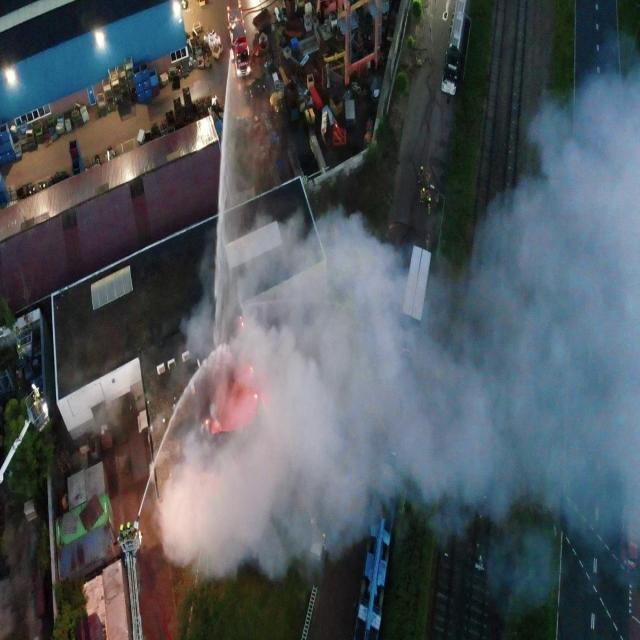Fire: (250, 366, 254, 374), (240, 316, 243, 326), (254, 393, 258, 399)
Smoke: (154, 33, 640, 610)
